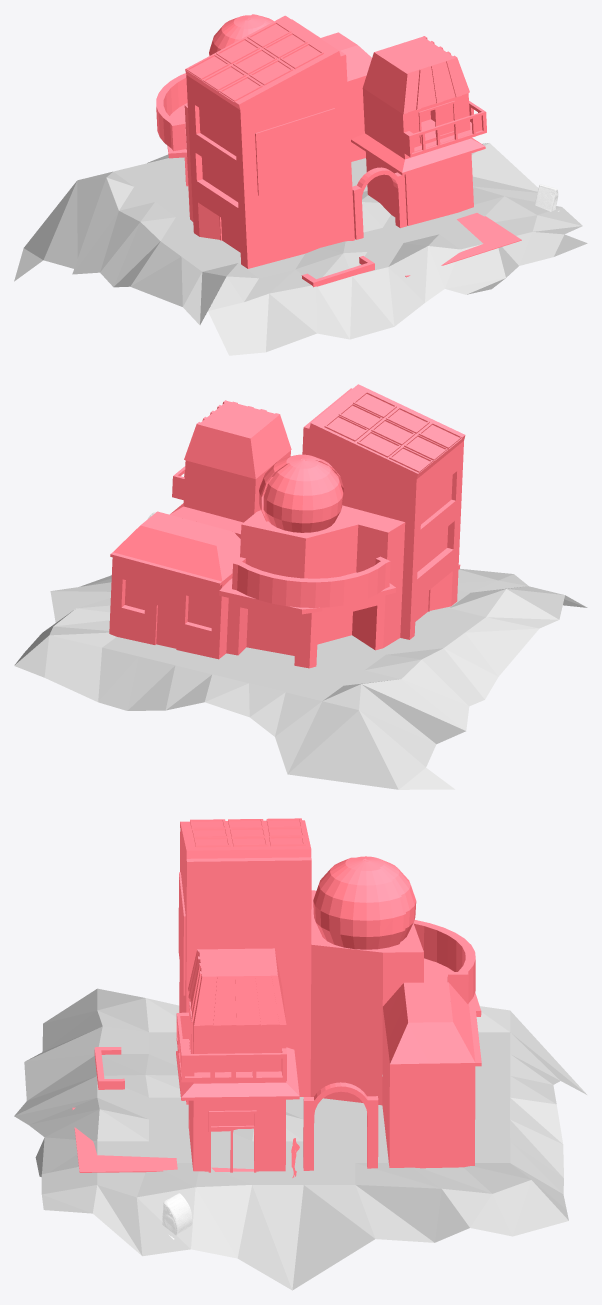
The model's file is drugislandyesmatuv.glb.
The picture shows the model from 3 angles, top to bottom: view 1: azimuth 30°, elevation 25°; view 2: azimuth 150°, elevation 25°; view 3: azimuth 270°, elevation 25°; orthographic projection. The views are drawn at different scales.
Parts seen in each view (by area): view 1: Grid, mesh36_mesh, mesh43_mesh, mesh35_mesh, mesh37_mesh, mesh16_mesh, mesh40_mesh, mesh25_mesh, mesh2_mesh, mesh12_mesh, mesh9_mesh, mesh1_mesh (+3 smaller); view 2: Grid, mesh36_mesh, mesh12_mesh, mesh16_mesh, mesh37_mesh, mesh9_mesh, mesh43_mesh, mesh25_mesh, mesh5_mesh, mesh40_mesh; view 3: Grid, mesh36_mesh, mesh12_mesh, mesh43_mesh, mesh35_mesh, mesh37_mesh, mesh9_mesh, mesh16_mesh, mesh40_mesh, mesh25_mesh, mesh2_mesh, mesh5_mesh (+5 smaller).
Boxes of the visible parts, x1,y1,x2,y2 form: Grid: (14, 143, 587, 355); mesh36_mesh: (167, 14, 354, 268); mesh43_mesh: (362, 88, 486, 159); mesh35_mesh: (366, 152, 473, 225); mesh37_mesh: (363, 36, 469, 114); mesh16_mesh: (156, 73, 187, 151); mesh40_mesh: (351, 133, 484, 172); mesh25_mesh: (374, 36, 455, 73); mesh2_mesh: (405, 213, 521, 277); mesh12_mesh: (347, 75, 366, 161); mesh9_mesh: (340, 45, 371, 81); mesh1_mesh: (301, 256, 374, 287); Grid: (14, 568, 587, 789); mesh36_mesh: (219, 384, 465, 668); mesh12_mesh: (109, 552, 232, 659); mesh16_mesh: (232, 556, 390, 607); mesh37_mesh: (184, 400, 291, 478); mesh9_mesh: (113, 525, 240, 581); mesh43_mesh: (172, 450, 290, 522); mesh25_mesh: (198, 401, 278, 438); mesh5_mesh: (140, 511, 232, 545); mesh40_mesh: (170, 503, 243, 534); Grid: (14, 988, 586, 1290); mesh36_mesh: (178, 818, 481, 1105); mesh12_mesh: (382, 1005, 481, 1168); mesh43_mesh: (176, 998, 286, 1083); mesh35_mesh: (189, 1099, 285, 1172); mesh37_mesh: (188, 949, 286, 1025); mesh9_mesh: (383, 982, 475, 1064); mesh16_mesh: (413, 920, 475, 1004); mesh40_mesh: (176, 1047, 299, 1097); mesh25_mesh: (199, 948, 277, 976); mesh2_mesh: (72, 1107, 177, 1172); mesh5_mesh: (403, 982, 452, 1022).
Size of the model in its own units: 25.4 by 13.96 by 22.24.
